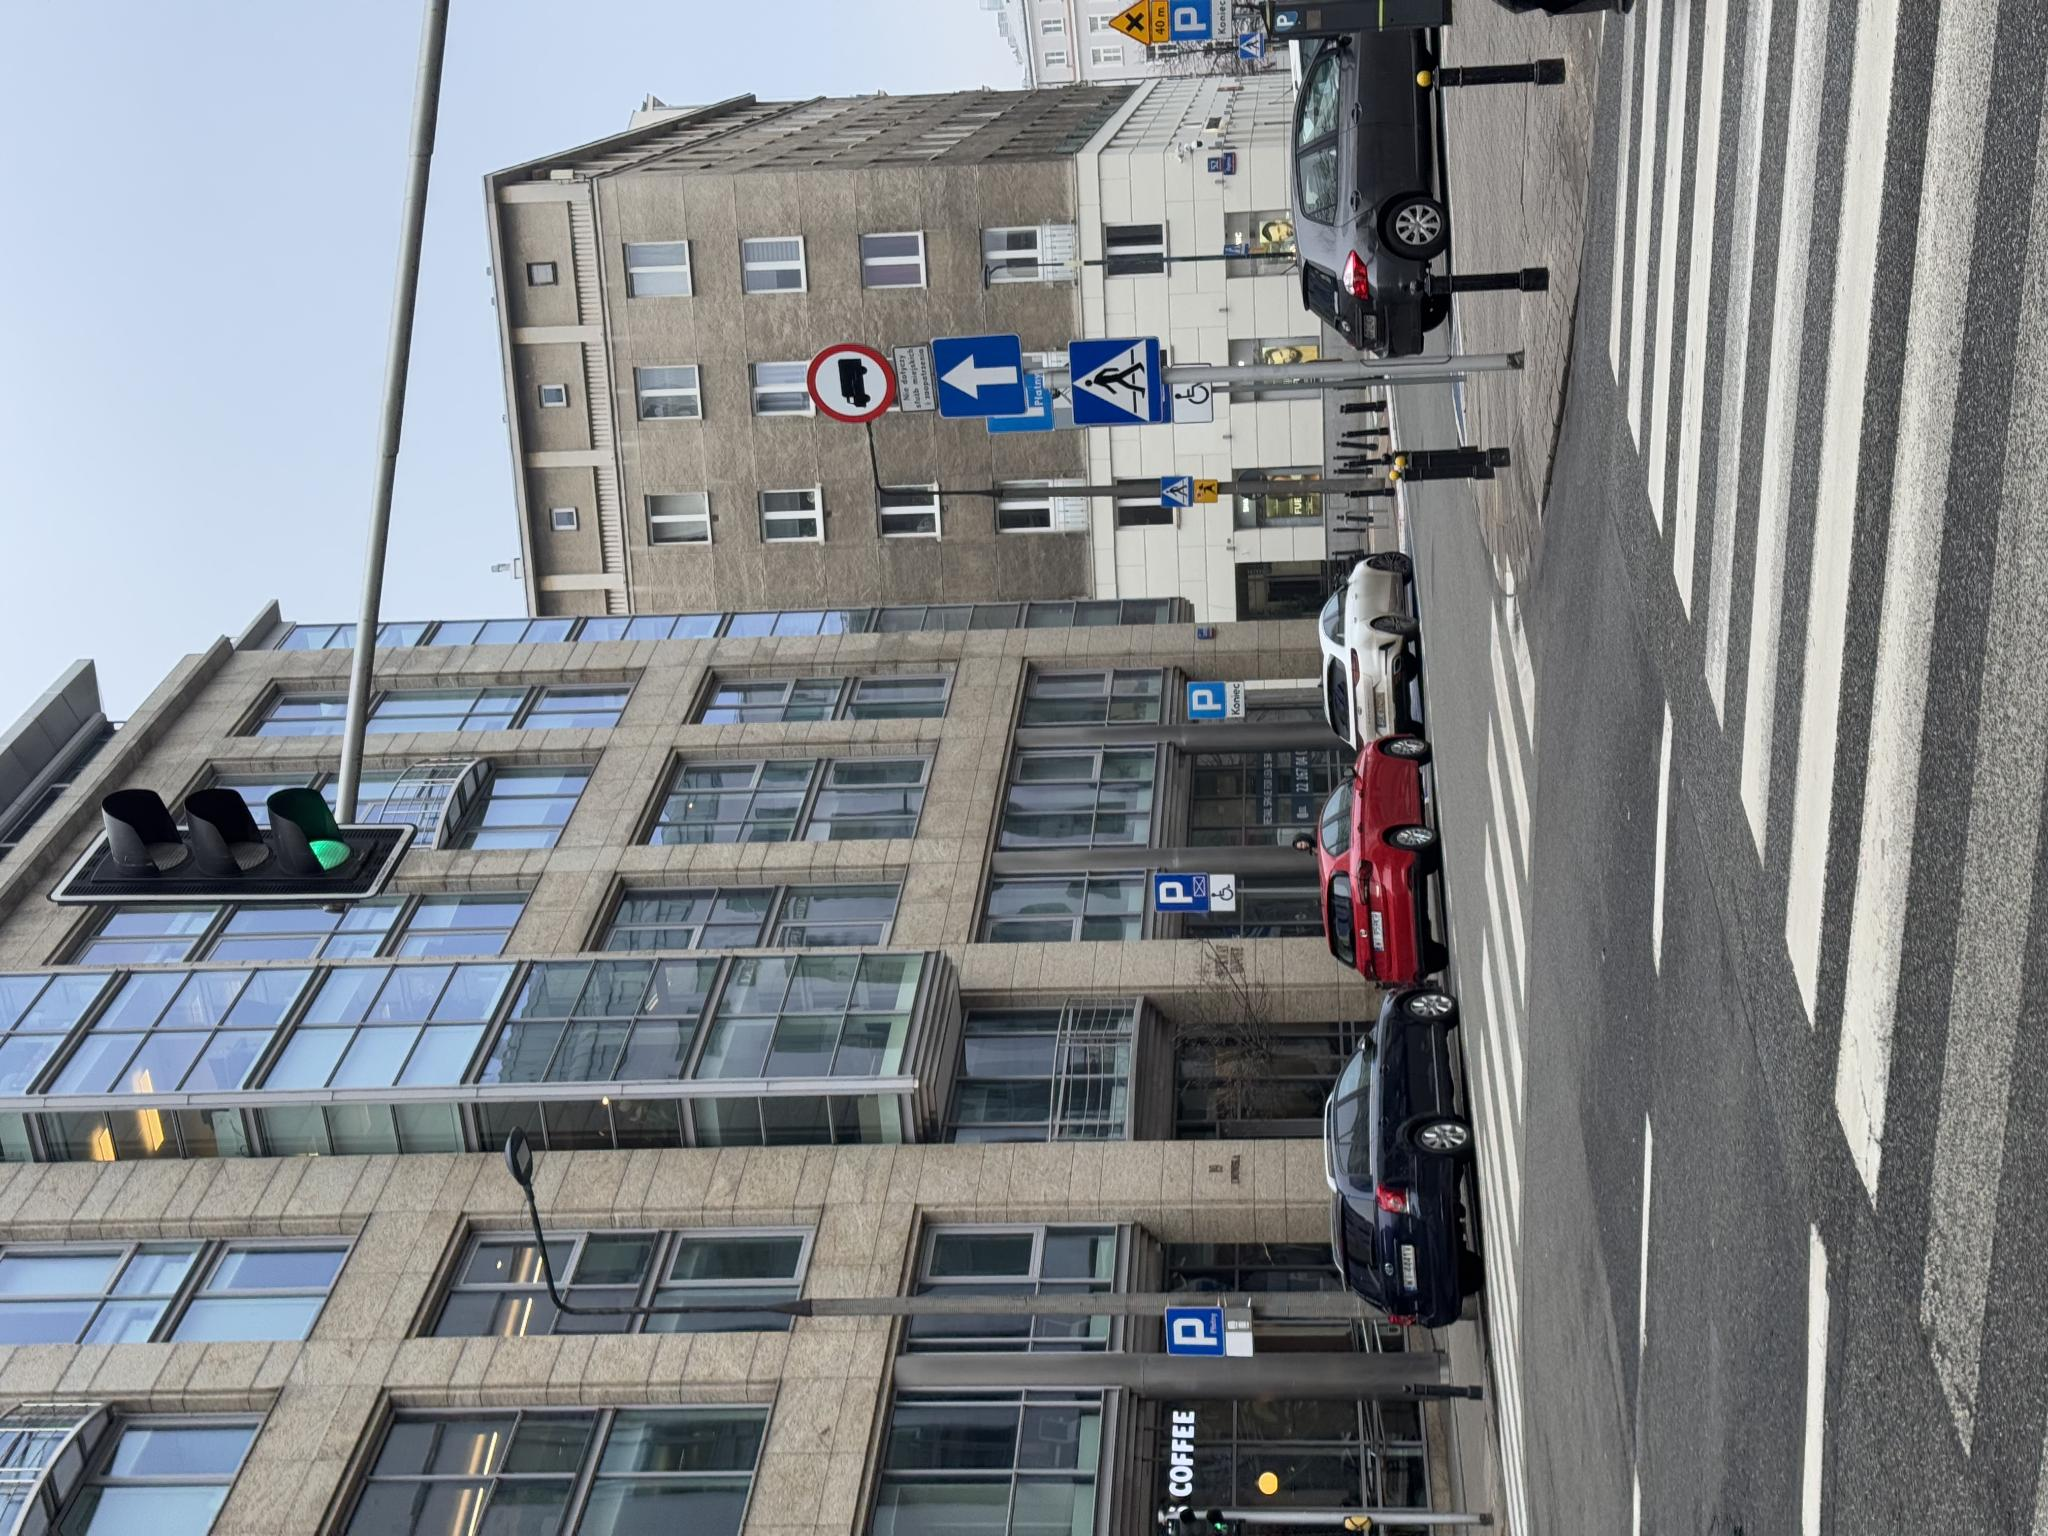information: (1111, 1068, 1198, 1162), (1118, 934, 1205, 1026), (179, 1165, 229, 1225), (626, 1154, 663, 1208), (1495, 1170, 1535, 1210), (818, 1187, 855, 1226), (1027, 1160, 1059, 1192), (1477, 1239, 1503, 1262)
other: (1111, 1171, 1153, 1212), (181, 1225, 229, 1255), (626, 1210, 663, 1234), (819, 1225, 853, 1246), (1496, 1213, 1535, 1231), (1495, 1152, 1535, 1168), (1034, 1196, 1056, 1217)
prohibitory: (1113, 805, 1193, 899)
warning: (1490, 1108, 1535, 1150)
